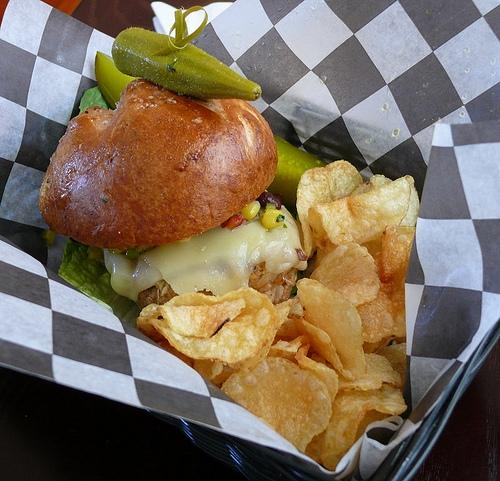corn: (261, 208, 283, 228), (240, 201, 261, 220)
